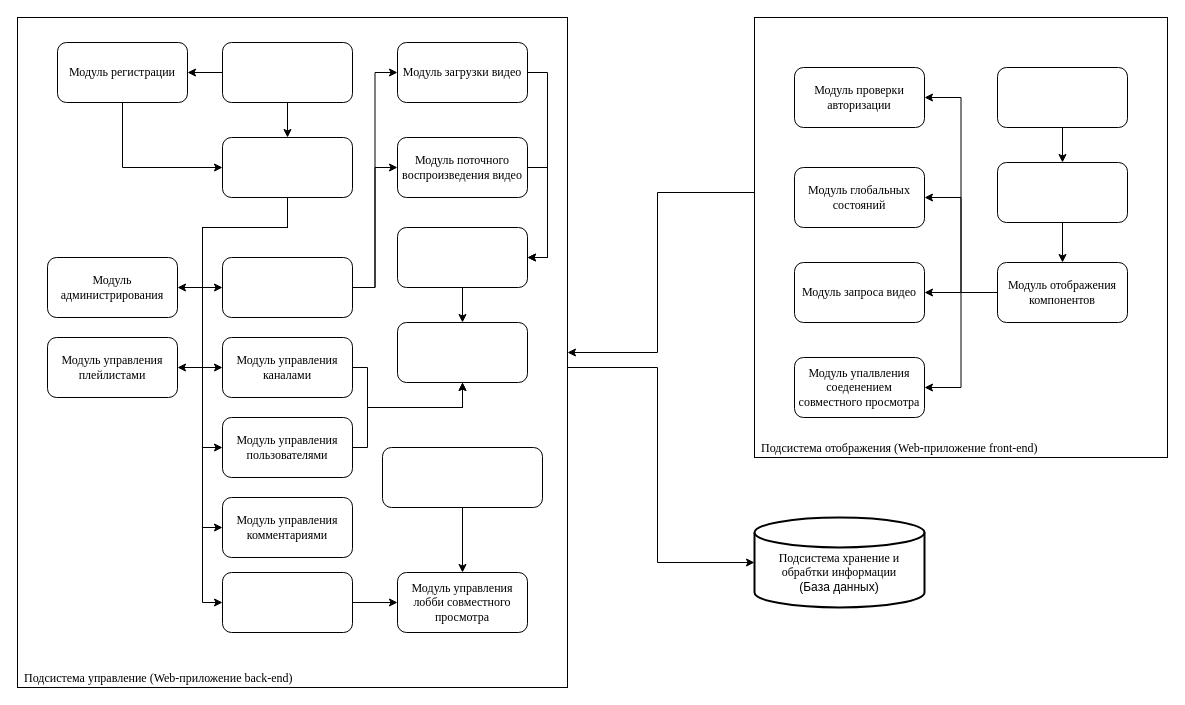
Image size: 1185x705. Some labels were removed from this diagram. Here are the shapes that lost their labels. From the top down, the centre of each, then its label:
the point at 287,72: Модуль авторизации
the point at 1062,97: Глобальный модуль навигации
the point at 287,167: Модуль навигации
the point at 1062,192: Модуль навигации по строке запроса
the point at 462,257: Модуль хранения видео
the point at 287,287: Модуль упраления видео
the point at 462,352: Модуль управления файловой системой
the point at 462,477: Модуль управления подключением (SignalR Hub)
the point at 287,602: Модуль управления совместным просмотром
